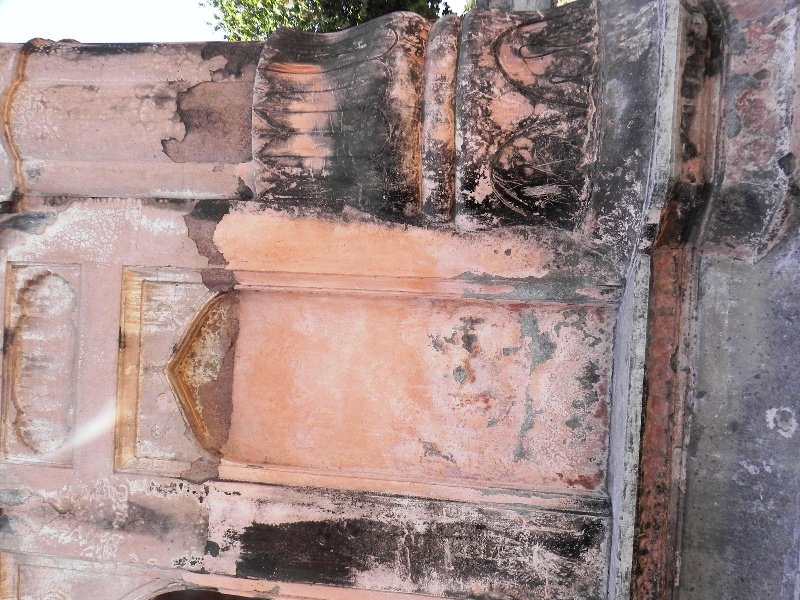Spalling: (175, 328, 239, 488), (173, 194, 244, 290)
